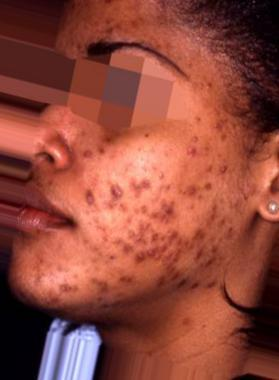Acne: (105, 157, 200, 276)
